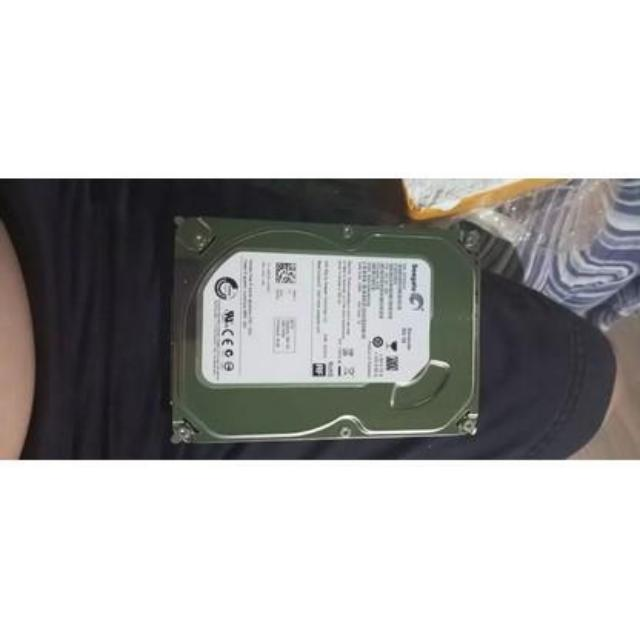DISK: (170, 215, 488, 447)
